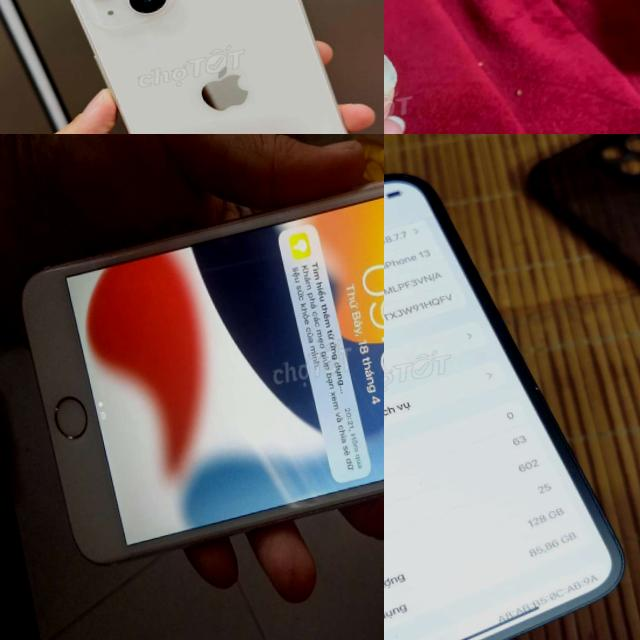gen_12_13: (384, 134, 640, 640)
gen_14: (41, 0, 384, 134), (384, 0, 475, 134)
gen_6: (22, 181, 384, 563)
